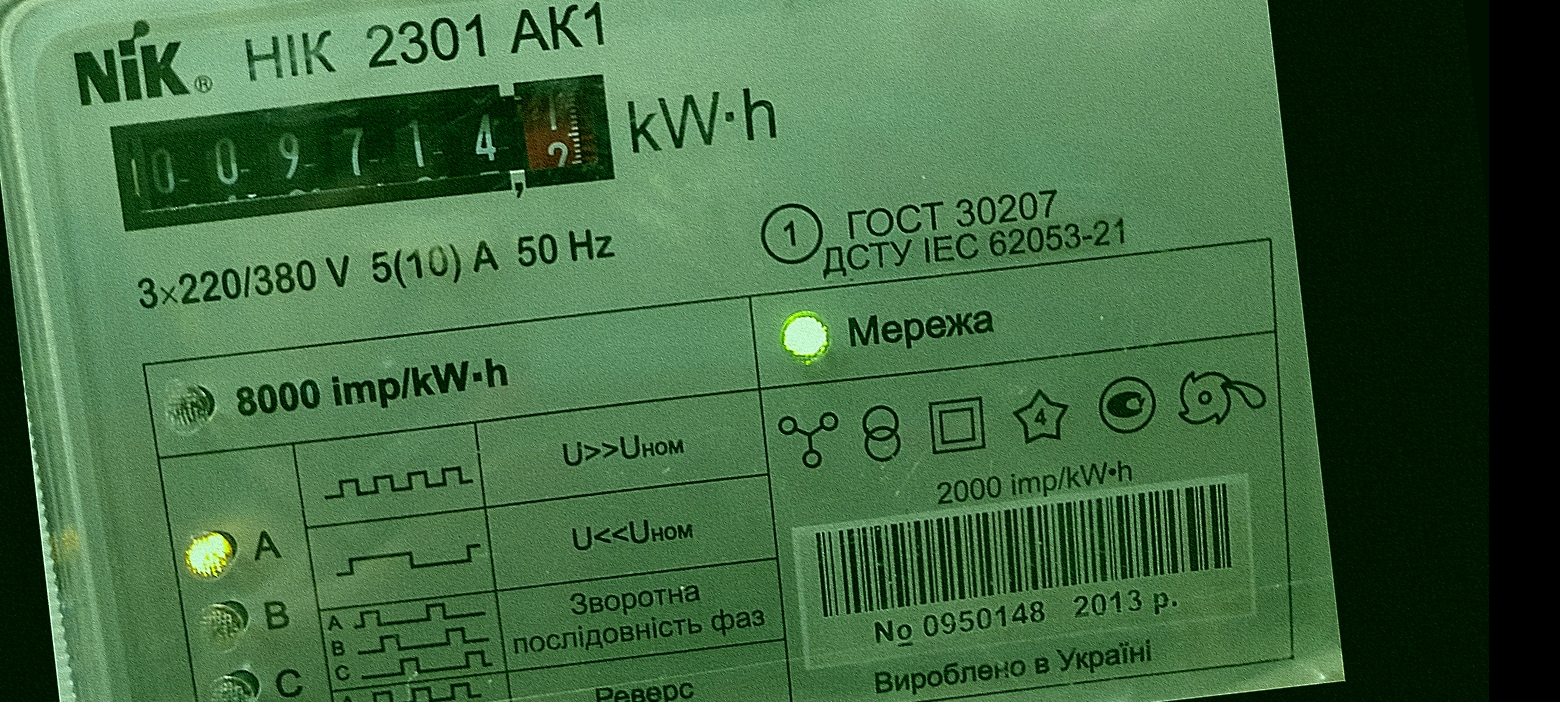0: (147, 144, 181, 201), (210, 134, 243, 190)
1: (404, 115, 432, 173), (543, 91, 562, 135)
2: (545, 139, 572, 171)
4: (468, 111, 503, 168)
7: (340, 125, 371, 181)
9: (273, 129, 307, 184)
screen: (94, 55, 635, 256)
